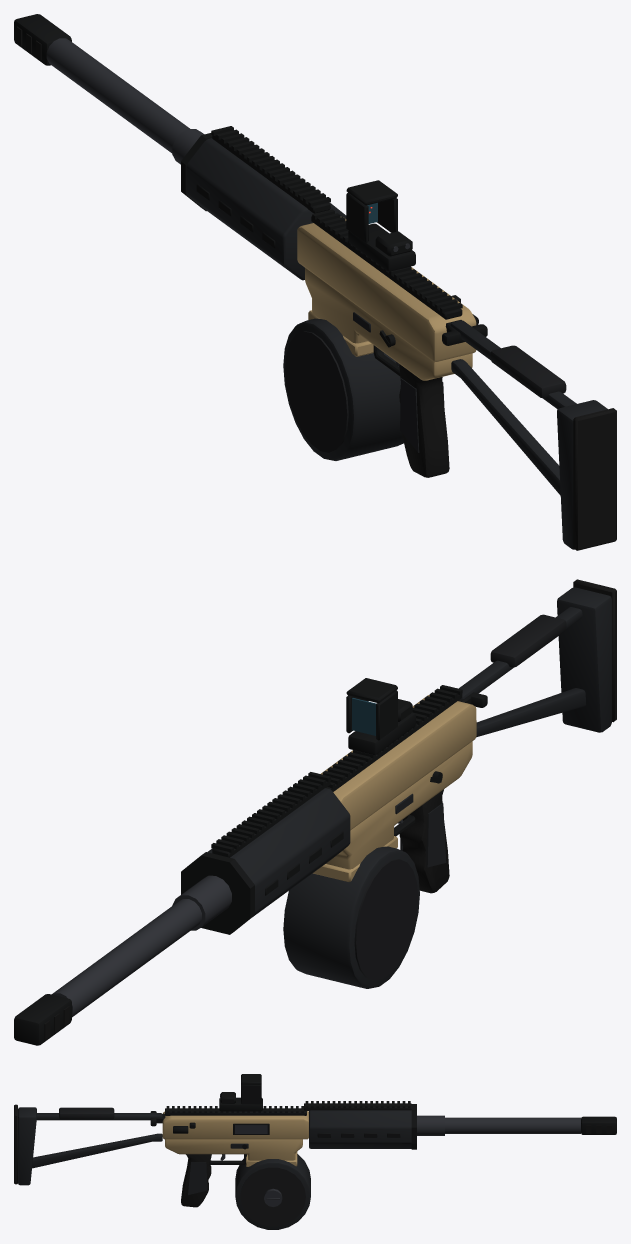
The model's file is gun_30.glb.
3 views of the same model, one above another, from view 1: azimuth 30°, elevation 25°; view 2: azimuth 150°, elevation 25°; view 3: azimuth 270°, elevation 25° (orthographic). The views are drawn at different scales.
Parts seen in each view (by area): view 1: gun_30; view 2: gun_30; view 3: gun_30.
Part boxes in pixels (bbox=[...]): gun_30: bbox=[14, 14, 616, 550]; gun_30: bbox=[14, 579, 616, 1045]; gun_30: bbox=[14, 1074, 616, 1229].
Size of the model in its own units: 0.093 by 0.3097 by 1.17.
